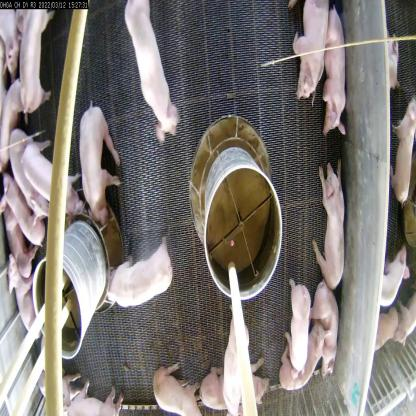Pig: (123, 0, 184, 139), (75, 98, 121, 229), (104, 235, 176, 312), (14, 5, 58, 130), (19, 126, 81, 212), (310, 158, 346, 292), (285, 0, 326, 101), (321, 1, 351, 137), (219, 313, 256, 415), (0, 172, 49, 247), (200, 368, 276, 412), (282, 316, 326, 391), (4, 255, 38, 347), (312, 280, 342, 382), (147, 365, 204, 415), (62, 373, 129, 415), (284, 277, 310, 371)
